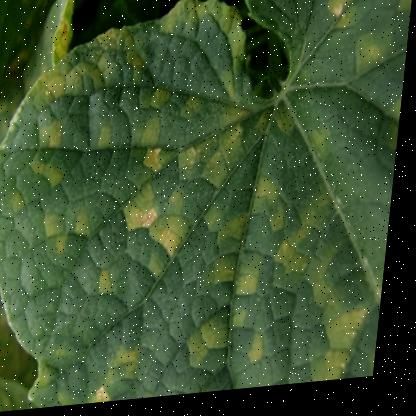DownyMildew: (21, 49, 271, 411), (191, 95, 403, 398), (269, 0, 415, 225)
